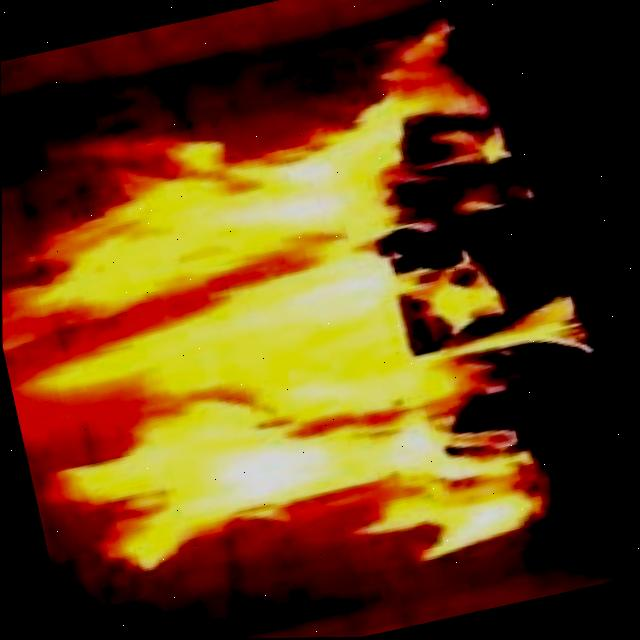Fire: (0, 0, 634, 640)
